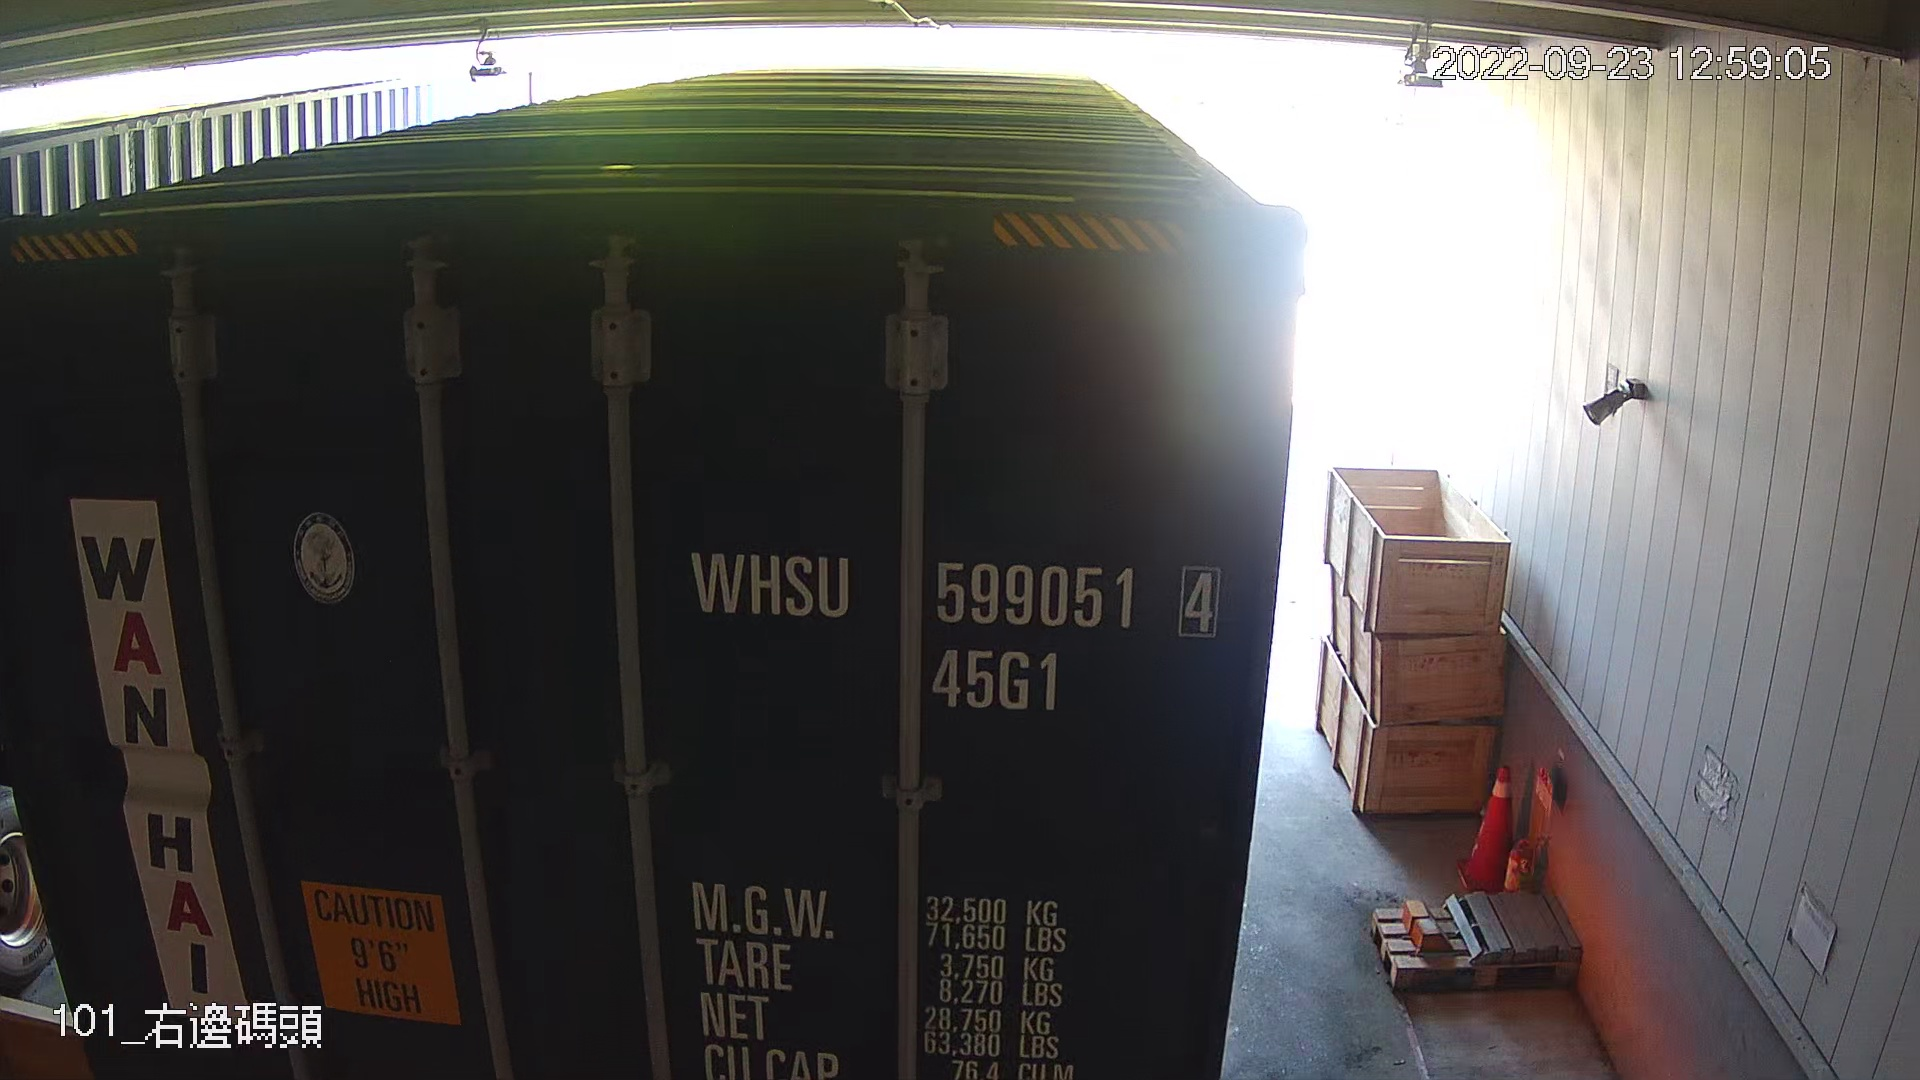container: (673, 524, 1240, 727)
